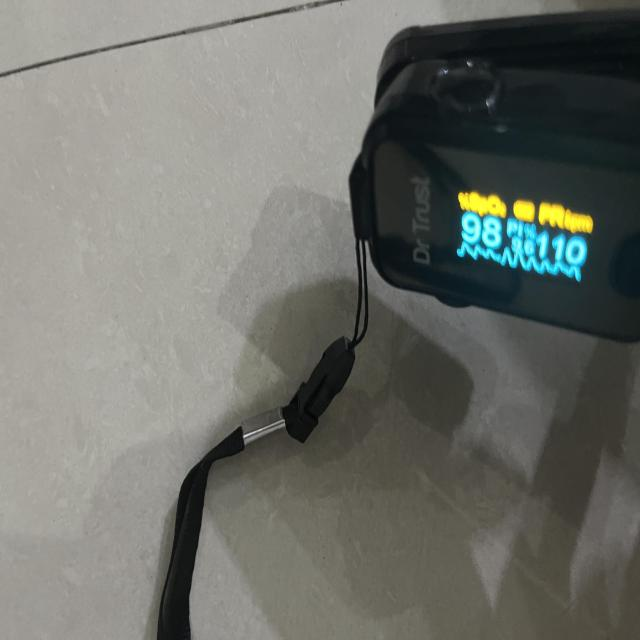spo2: (348, 10, 640, 345)
